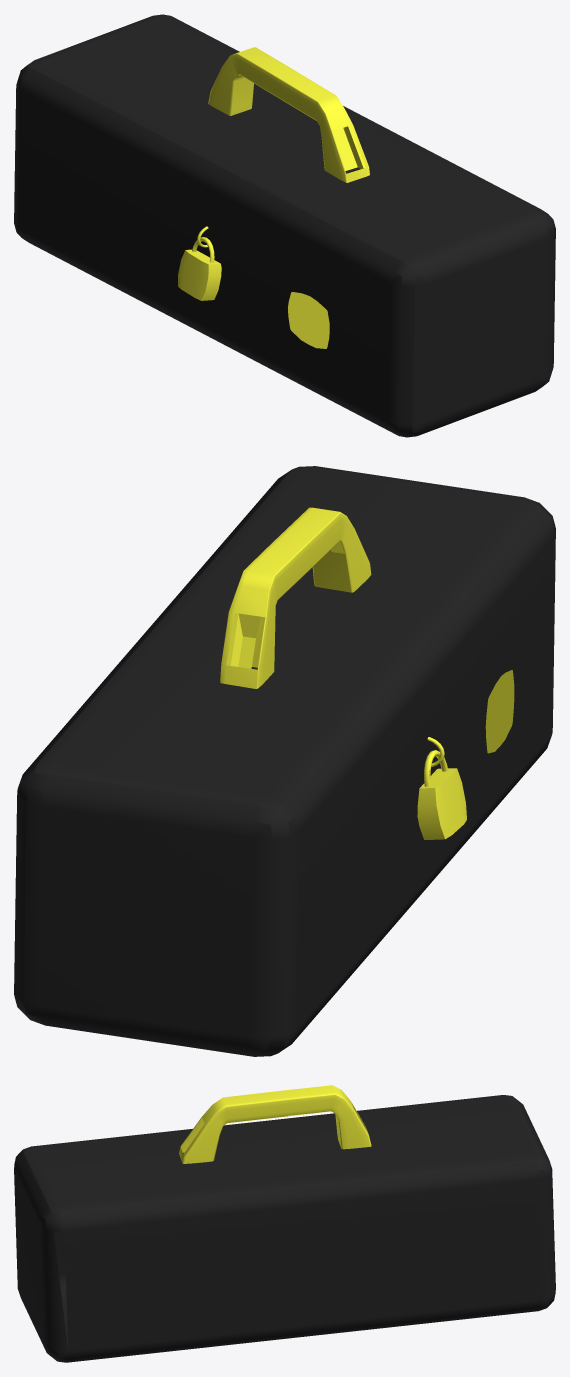
Rendered from maleta.gltf.
The picture shows the model from 3 angles, top to bottom: view 1: azimuth 30°, elevation 25°; view 2: azimuth 150°, elevation 25°; view 3: azimuth 270°, elevation 25°; orthographic projection. The views are drawn at different scales.
Visible parts, largest first — view 1: 5060e.003, 5060e.006; view 2: 5060e.003, 5060e.006; view 3: 5060e.003, 5060e.006.
Boxes of the visible parts, x1=… form: 5060e.003: x1=14, y1=14, x2=555, y2=437; 5060e.006: x1=178, y1=47, x2=369, y2=348; 5060e.003: x1=14, y1=466, x2=555, y2=1056; 5060e.006: x1=220, y1=507, x2=514, y2=839; 5060e.003: x1=14, y1=1095, x2=555, y2=1362; 5060e.006: x1=179, y1=1085, x2=371, y2=1163.
Bounding box in the file's own units: 27.06 × 24.17 × 54.
